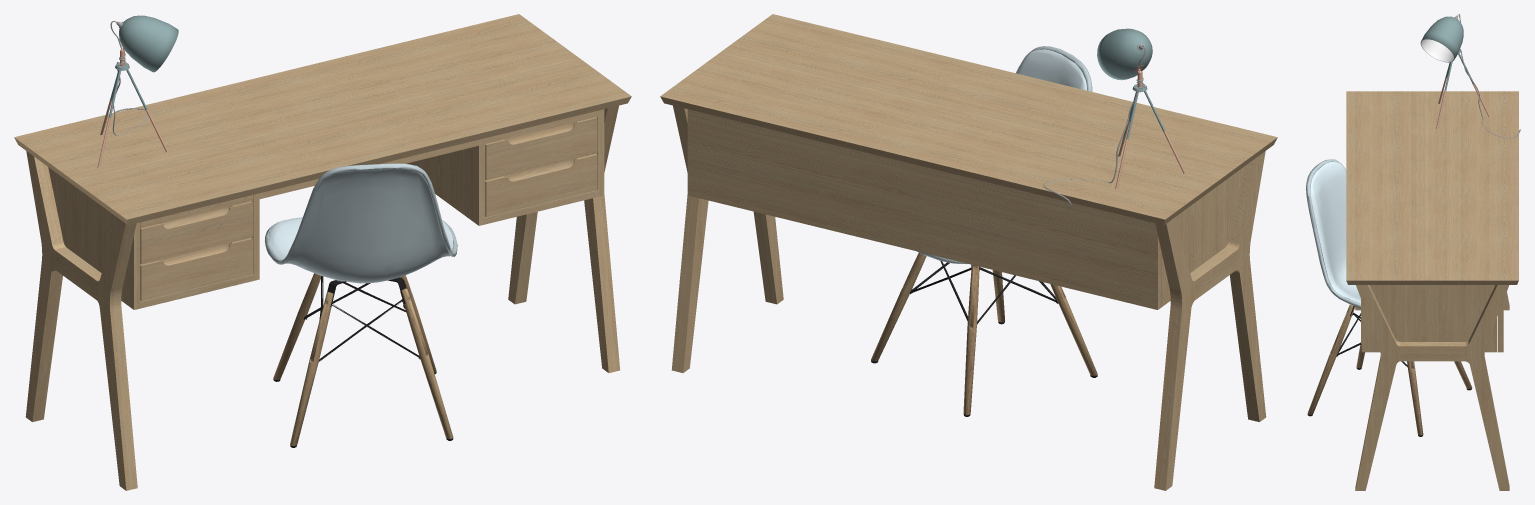
Rendered from modern_desk.glb.
3 views of the same model, side by side, from view 1: azimuth 30°, elevation 25°; view 2: azimuth 150°, elevation 25°; view 3: azimuth 270°, elevation 25° (orthographic). The views are drawn at different scales.
Visible parts, largest first — view 1: Office_Desks_Wooden_01_5, Seating_Chairs_Scandinavian_01_4, Office_Desks_Wooden_01_Drawers_2, Lighting_Table-Lamps_Cute_01_1; view 2: Office_Desks_Wooden_01_5, Seating_Chairs_Scandinavian_01_4, Lighting_Table-Lamps_Cute_01_1; view 3: Office_Desks_Wooden_01_5, Seating_Chairs_Scandinavian_01_4, Lighting_Table-Lamps_Cute_01_1.
Part boxes in pixels (x1,y1,x2,y2): Office_Desks_Wooden_01_5: [14, 14, 631, 490]; Seating_Chairs_Scandinavian_01_4: [265, 163, 457, 447]; Office_Desks_Wooden_01_Drawers_2: [140, 117, 597, 301]; Lighting_Table-Lamps_Cute_01_1: [97, 15, 178, 167]; Office_Desks_Wooden_01_5: [660, 14, 1277, 490]; Seating_Chairs_Scandinavian_01_4: [871, 46, 1097, 416]; Lighting_Table-Lamps_Cute_01_1: [1097, 28, 1185, 189]; Office_Desks_Wooden_01_5: [1346, 91, 1518, 490]; Seating_Chairs_Scandinavian_01_4: [1306, 159, 1472, 436]; Lighting_Table-Lamps_Cute_01_1: [1420, 15, 1490, 128].
Size of the model in its own units: 1.45 by 1.13 by 0.6964.
12 materials, 2 textured.
